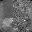people: (2, 17, 15, 28)
